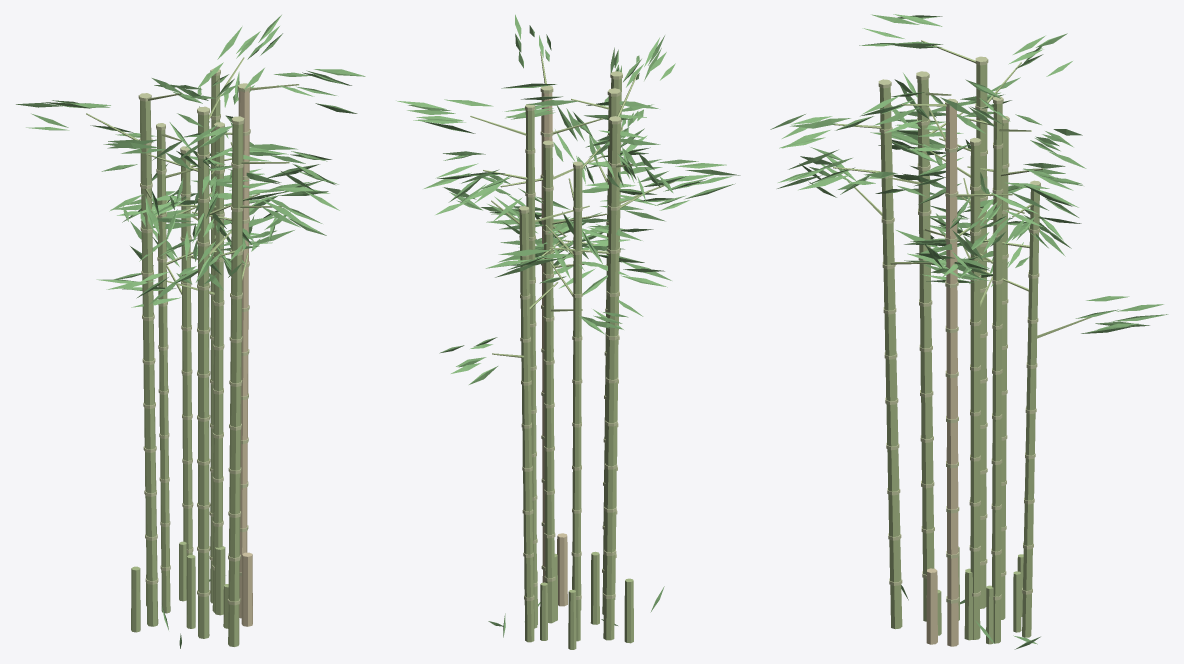
Rendered from plant-bamboo-a_lod1.glb.
The picture shows the model from 3 angles, left to right: view 1: azimuth 30°, elevation 25°; view 2: azimuth 150°, elevation 25°; view 3: azimuth 270°, elevation 25°; orthographic projection. The views are drawn at different scales.
Visible parts, largest first — view 1: plant-bamboo-a_full_bambooCulm, plant-bamboo-a_full_bambooLeaf, plant-bamboo-a_full_bambooNode, plant-bamboo-a_full_bambooDry, plant-bamboo-a_cut_bambooCulm, plant-bamboo-a_cut_bambooDry; view 2: plant-bamboo-a_full_bambooCulm, plant-bamboo-a_full_bambooLeaf, plant-bamboo-a_full_bambooNode, plant-bamboo-a_cut_bambooCulm, plant-bamboo-a_full_bambooDry, plant-bamboo-a_cut_bambooDry; view 3: plant-bamboo-a_full_bambooCulm, plant-bamboo-a_full_bambooLeaf, plant-bamboo-a_full_bambooDry, plant-bamboo-a_full_bambooNode, plant-bamboo-a_cut_bambooCulm, plant-bamboo-a_cut_bambooDry.
Boxes of the visible parts, x1=… form: plant-bamboo-a_full_bambooCulm: x1=86, y1=57, x2=299, y2=646; plant-bamboo-a_full_bambooLeaf: x1=16, y1=15, x2=365, y2=307; plant-bamboo-a_full_bambooNode: x1=138, y1=68, x2=250, y2=605; plant-bamboo-a_full_bambooDry: x1=238, y1=90, x2=249, y2=618; plant-bamboo-a_cut_bambooCulm: x1=131, y1=541, x2=228, y2=632; plant-bamboo-a_cut_bambooDry: x1=241, y1=552, x2=252, y2=626; plant-bamboo-a_full_bambooCulm: x1=470, y1=51, x2=674, y2=642; plant-bamboo-a_full_bambooLeaf: x1=396, y1=14, x2=740, y2=384; plant-bamboo-a_full_bambooNode: x1=518, y1=71, x2=622, y2=600; plant-bamboo-a_cut_bambooCulm: x1=537, y1=551, x2=633, y2=649; plant-bamboo-a_full_bambooDry: x1=541, y1=92, x2=552, y2=582; plant-bamboo-a_cut_bambooDry: x1=557, y1=533, x2=567, y2=606; plant-bamboo-a_full_bambooCulm: x1=833, y1=40, x2=1092, y2=643; plant-bamboo-a_full_bambooLeaf: x1=770, y1=14, x2=1168, y2=333; plant-bamboo-a_full_bambooDry: x1=945, y1=106, x2=958, y2=646; plant-bamboo-a_full_bambooNode: x1=878, y1=56, x2=1040, y2=603; plant-bamboo-a_cut_bambooCulm: x1=937, y1=546, x2=1023, y2=644; plant-bamboo-a_cut_bambooDry: x1=926, y1=568, x2=937, y2=644.
Size of the model in its own units: 3.53 by 7.19 by 4.42.
